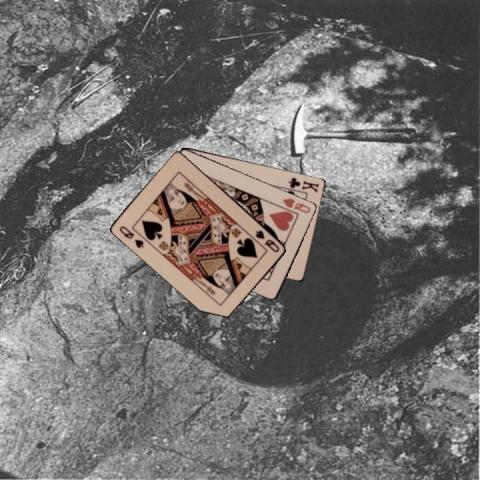Kc: (286, 174, 320, 193)
Qh: (280, 194, 312, 214)
Qs: (253, 227, 281, 254), (117, 223, 145, 249)
